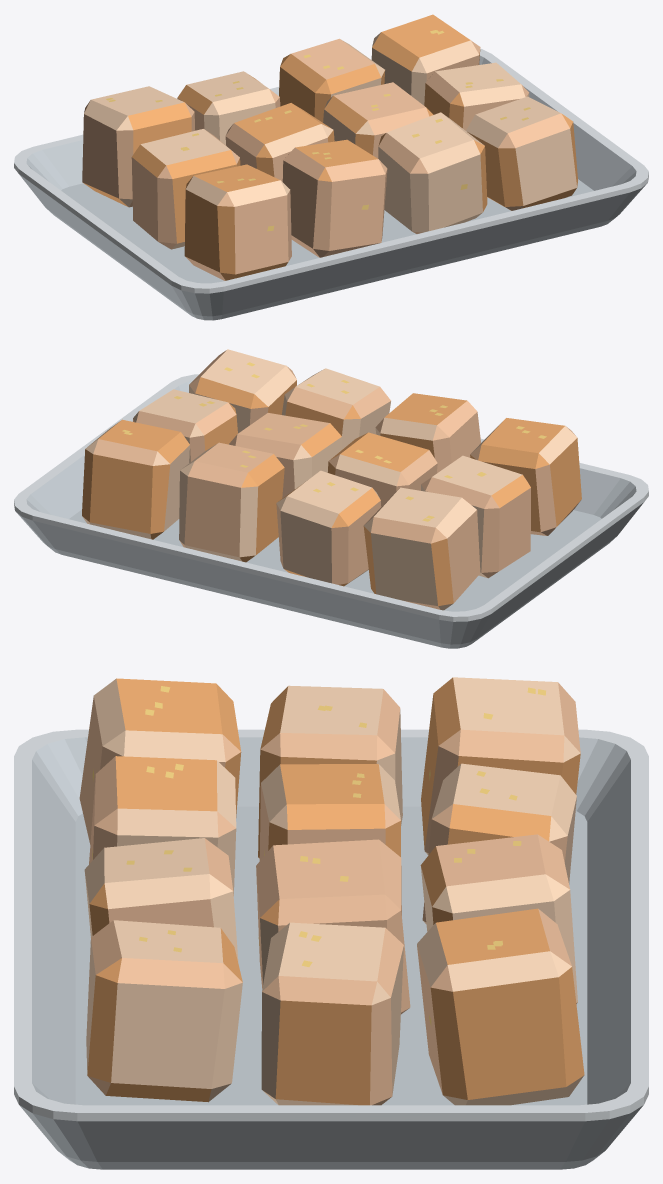
File: chicken-tray.glb
The picture shows the model from 3 angles, top to bottom: view 1: azimuth 30°, elevation 25°; view 2: azimuth 150°, elevation 25°; view 3: azimuth 270°, elevation 25°; orthographic projection. The views are drawn at different scales.
Parts seen in each view (by area): view 1: chicken-tray; view 2: chicken-tray; view 3: chicken-tray.
Part boxes in pixels (<box>): chicken-tray: <box>14,14,648,320</box>; chicken-tray: <box>14,349,648,648</box>; chicken-tray: <box>14,677,648,1169</box>.
Size of the model in its own units: 0.5 by 0.1141 by 0.35.
